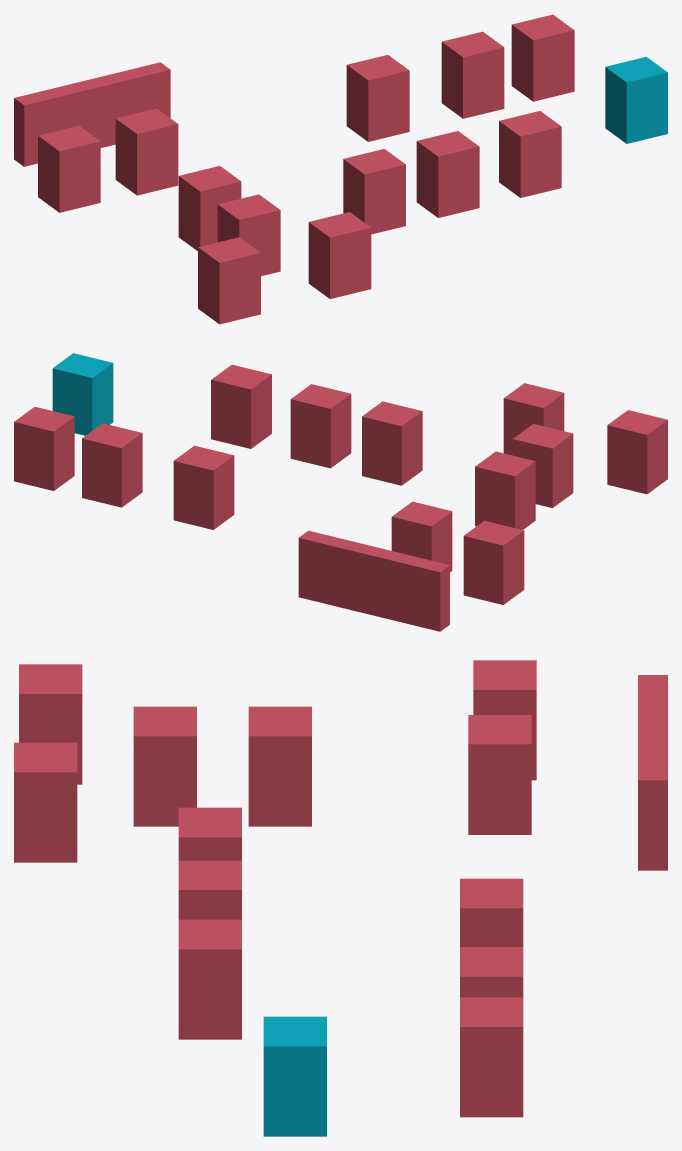
The model's file is sample.gltf.
3 renders of one model, top to bottom at view 1: azimuth 30°, elevation 25°; view 2: azimuth 150°, elevation 25°; view 3: azimuth 270°, elevation 25°, orthographic. The views are drawn at different scales.
Visible parts, largest first — view 1: Mesh_Mesh_head_geo.001_lambert2SG.001; view 2: Mesh_Mesh_head_geo.001_lambert2SG.001; view 3: Mesh_Mesh_head_geo.001_lambert2SG.001.
Part boxes in pixels (x1,y1,x2,y2): Mesh_Mesh_head_geo.001_lambert2SG.001: [14, 14, 667, 324]; Mesh_Mesh_head_geo.001_lambert2SG.001: [14, 353, 667, 631]; Mesh_Mesh_head_geo.001_lambert2SG.001: [14, 660, 667, 1136].
Size of the model in its own units: 183 by 20 by 131.
